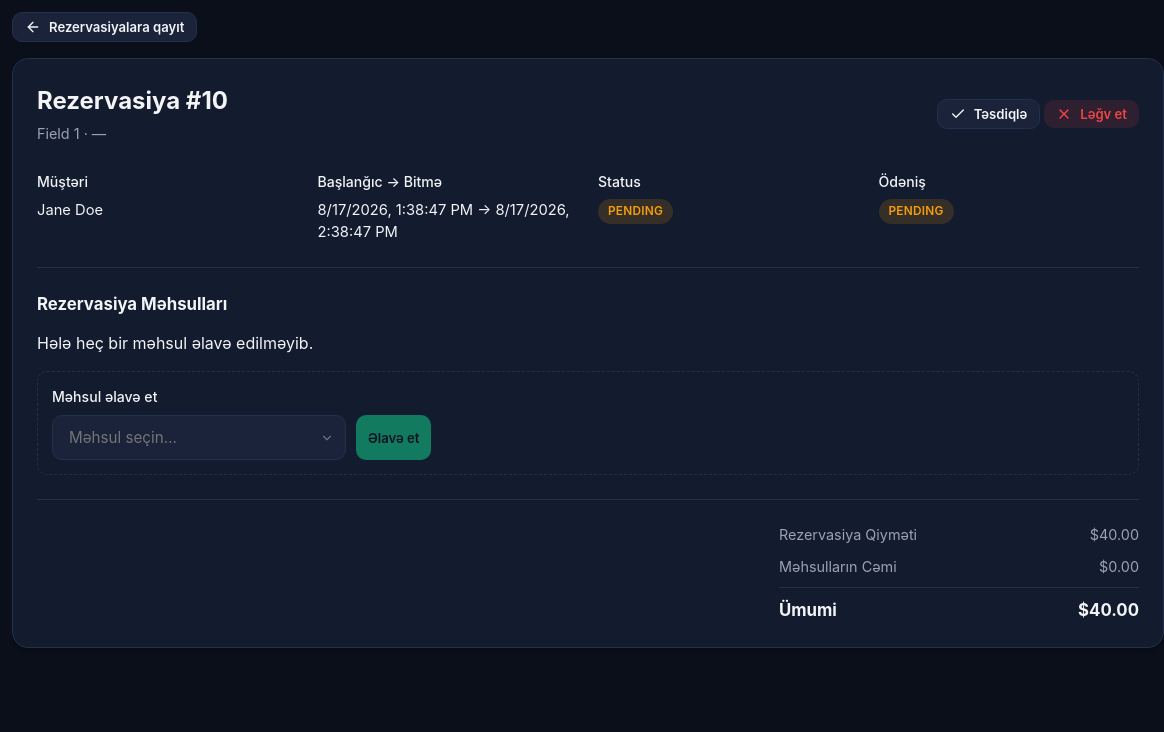
Test: BookingDetails page › shows the backend error message when adding an inactive/unavailable item fails
The image size is (1164, 732).
Expected: the text "Hələ heç bir məhsul əlavə edilməyib." is shown, x1=37 y1=333 x2=313 y2=353
Click the dropdown at x=199, y=438, box x1=52 y1=415 x2=346 y2=460
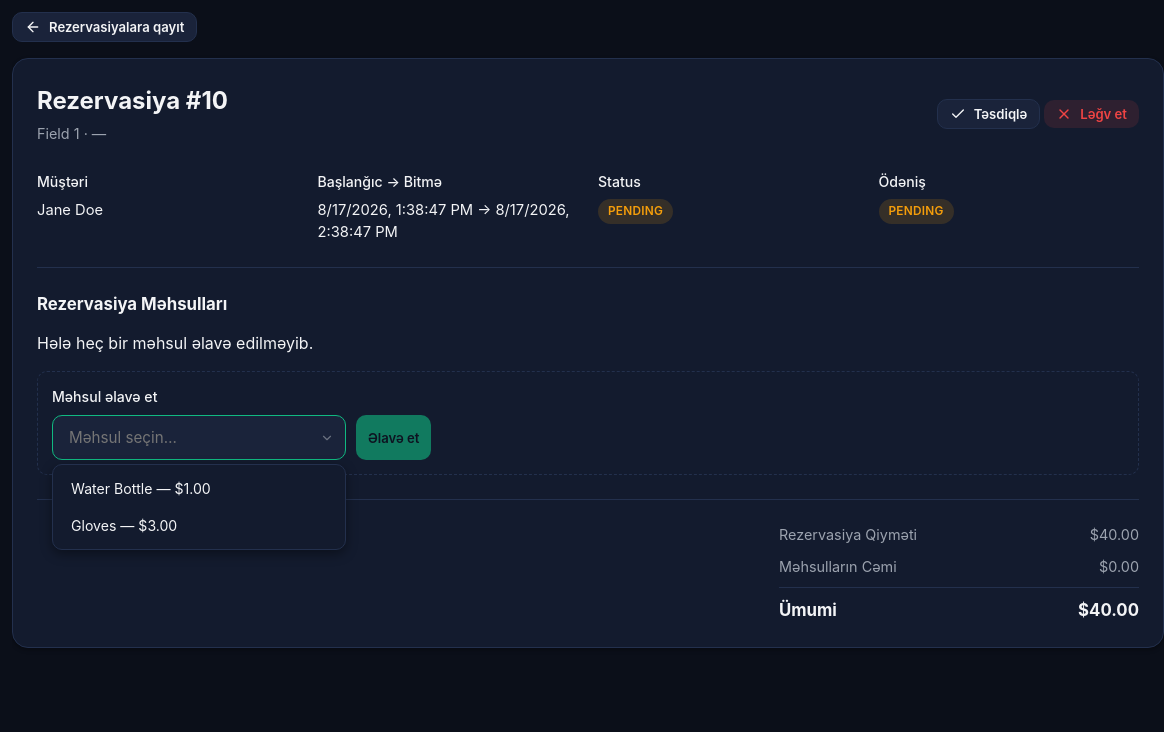
Click the option "Water Bottle — $1.00" at x=199, y=489, box x1=59 y1=471 x2=339 y2=506
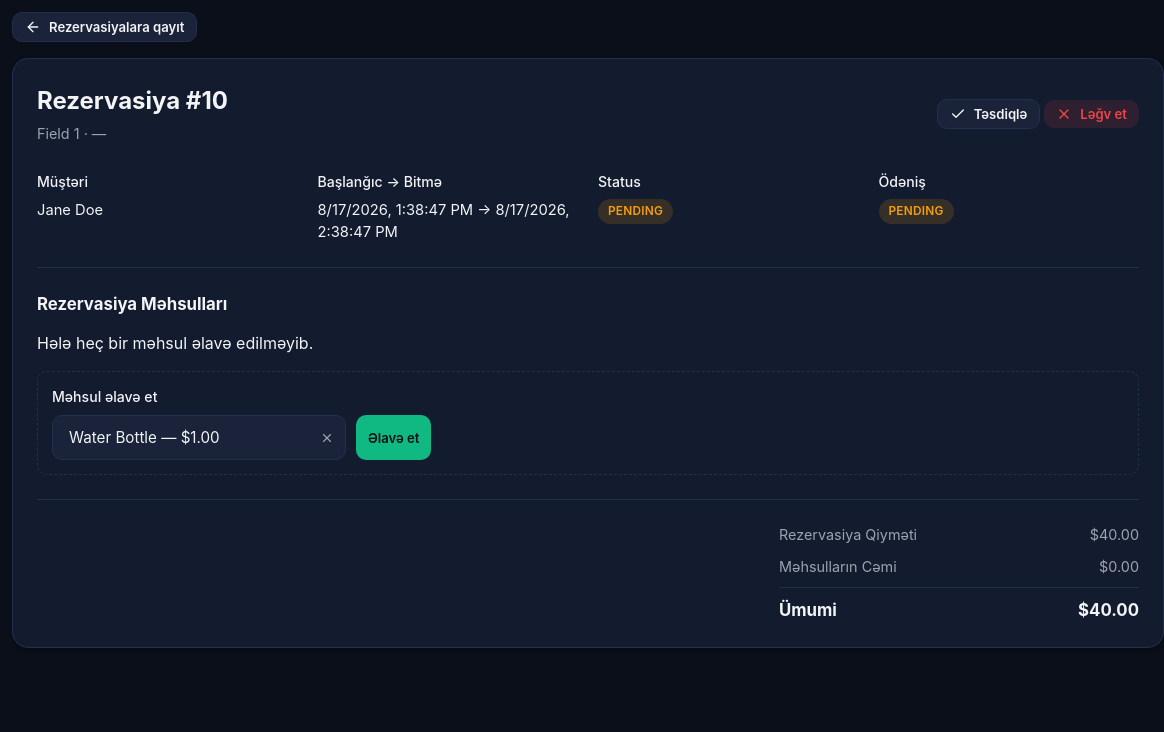
Click the button "Əlavə et" at x=394, y=438, box x1=356 y1=415 x2=432 y2=460
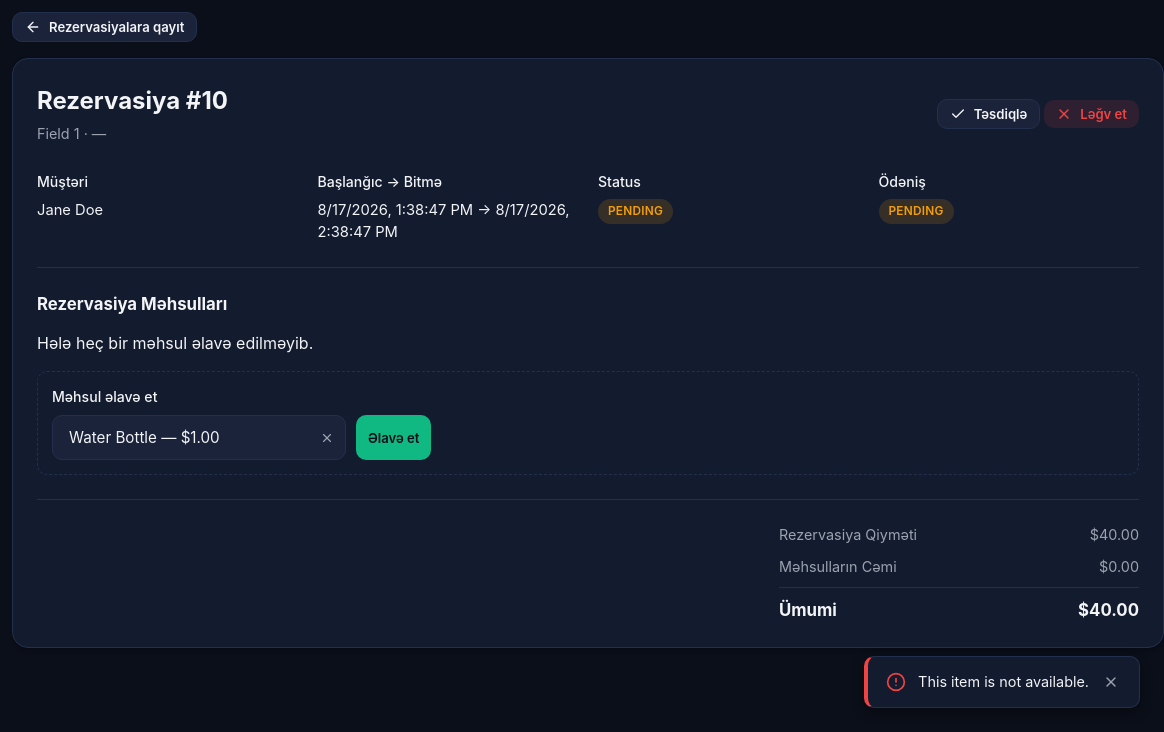
Expected: the text "Hələ heç bir məhsul əlavə edilməyib." is shown, x1=37 y1=333 x2=313 y2=353
Expected: the text "This item is not available." is shown, x1=918 y1=671 x2=1089 y2=693
